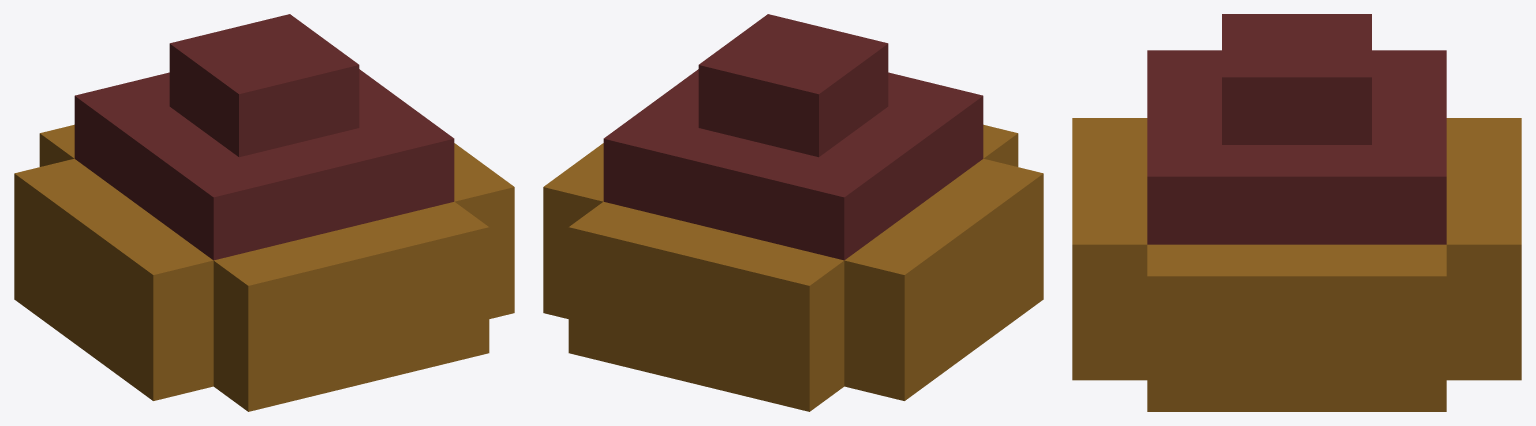
Rendered from char-218-helm_lgt_3b_ja_color.obj.
3 views of the same model, side by side, from view 1: azimuth 30°, elevation 25°; view 2: azimuth 150°, elevation 25°; view 3: azimuth 270°, elevation 25° (orthographic). The views are drawn at different scales.
Parts seen in each view (by area): view 1: helm_lgt_3b_ja_color; view 2: helm_lgt_3b_ja_color; view 3: helm_lgt_3b_ja_color.
Boxes of the visible parts, <box> form: helm_lgt_3b_ja_color: <box>14,14,514,411</box>; helm_lgt_3b_ja_color: <box>543,14,1043,411</box>; helm_lgt_3b_ja_color: <box>1072,14,1521,411</box>.
Size of the model in its own units: 0.6 by 0.4 by 0.6.
Materials: 1 (1 with a texture image).
